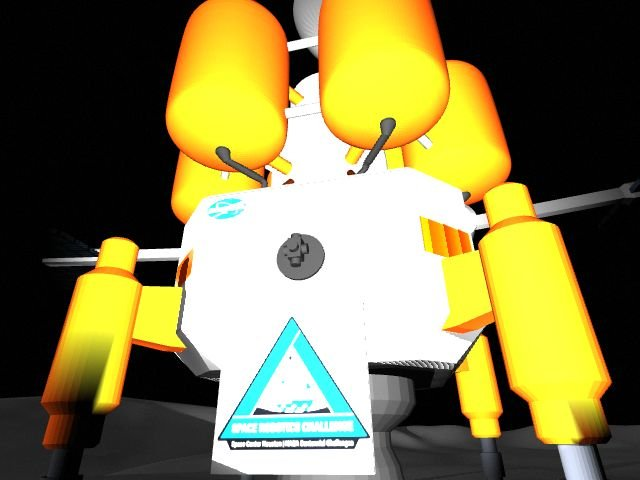basemarker: (217, 314, 371, 453)
